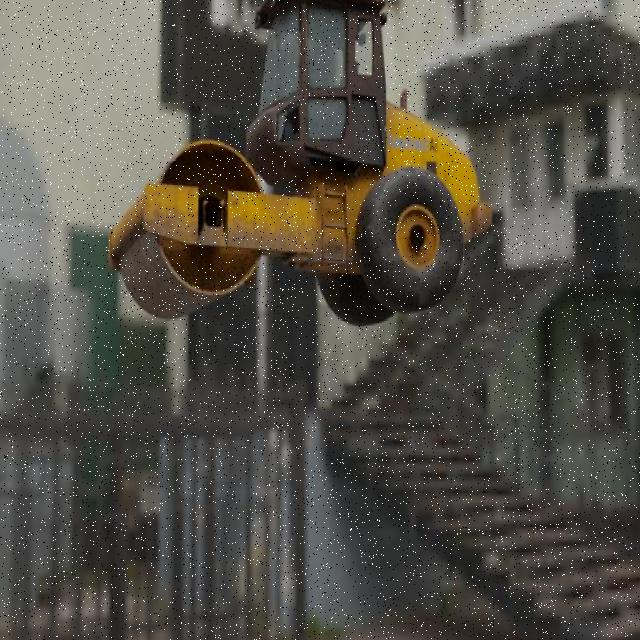Roller: (107, 0, 491, 327)
